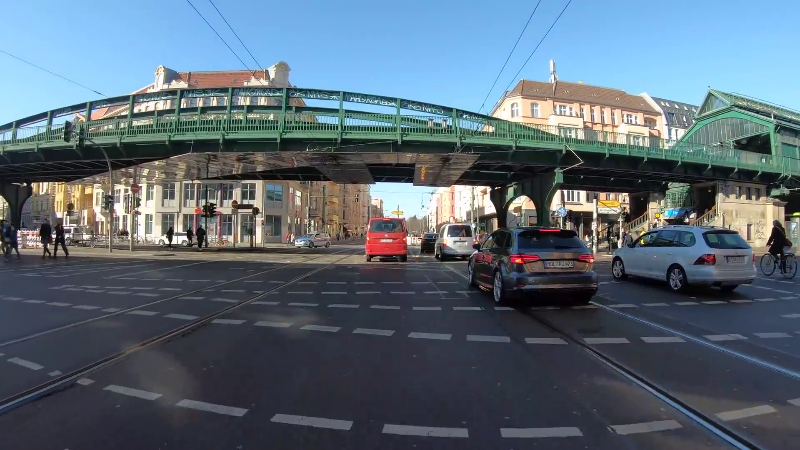Plate: (543, 258, 574, 268), (724, 254, 747, 263), (378, 237, 394, 243), (454, 241, 467, 245)
